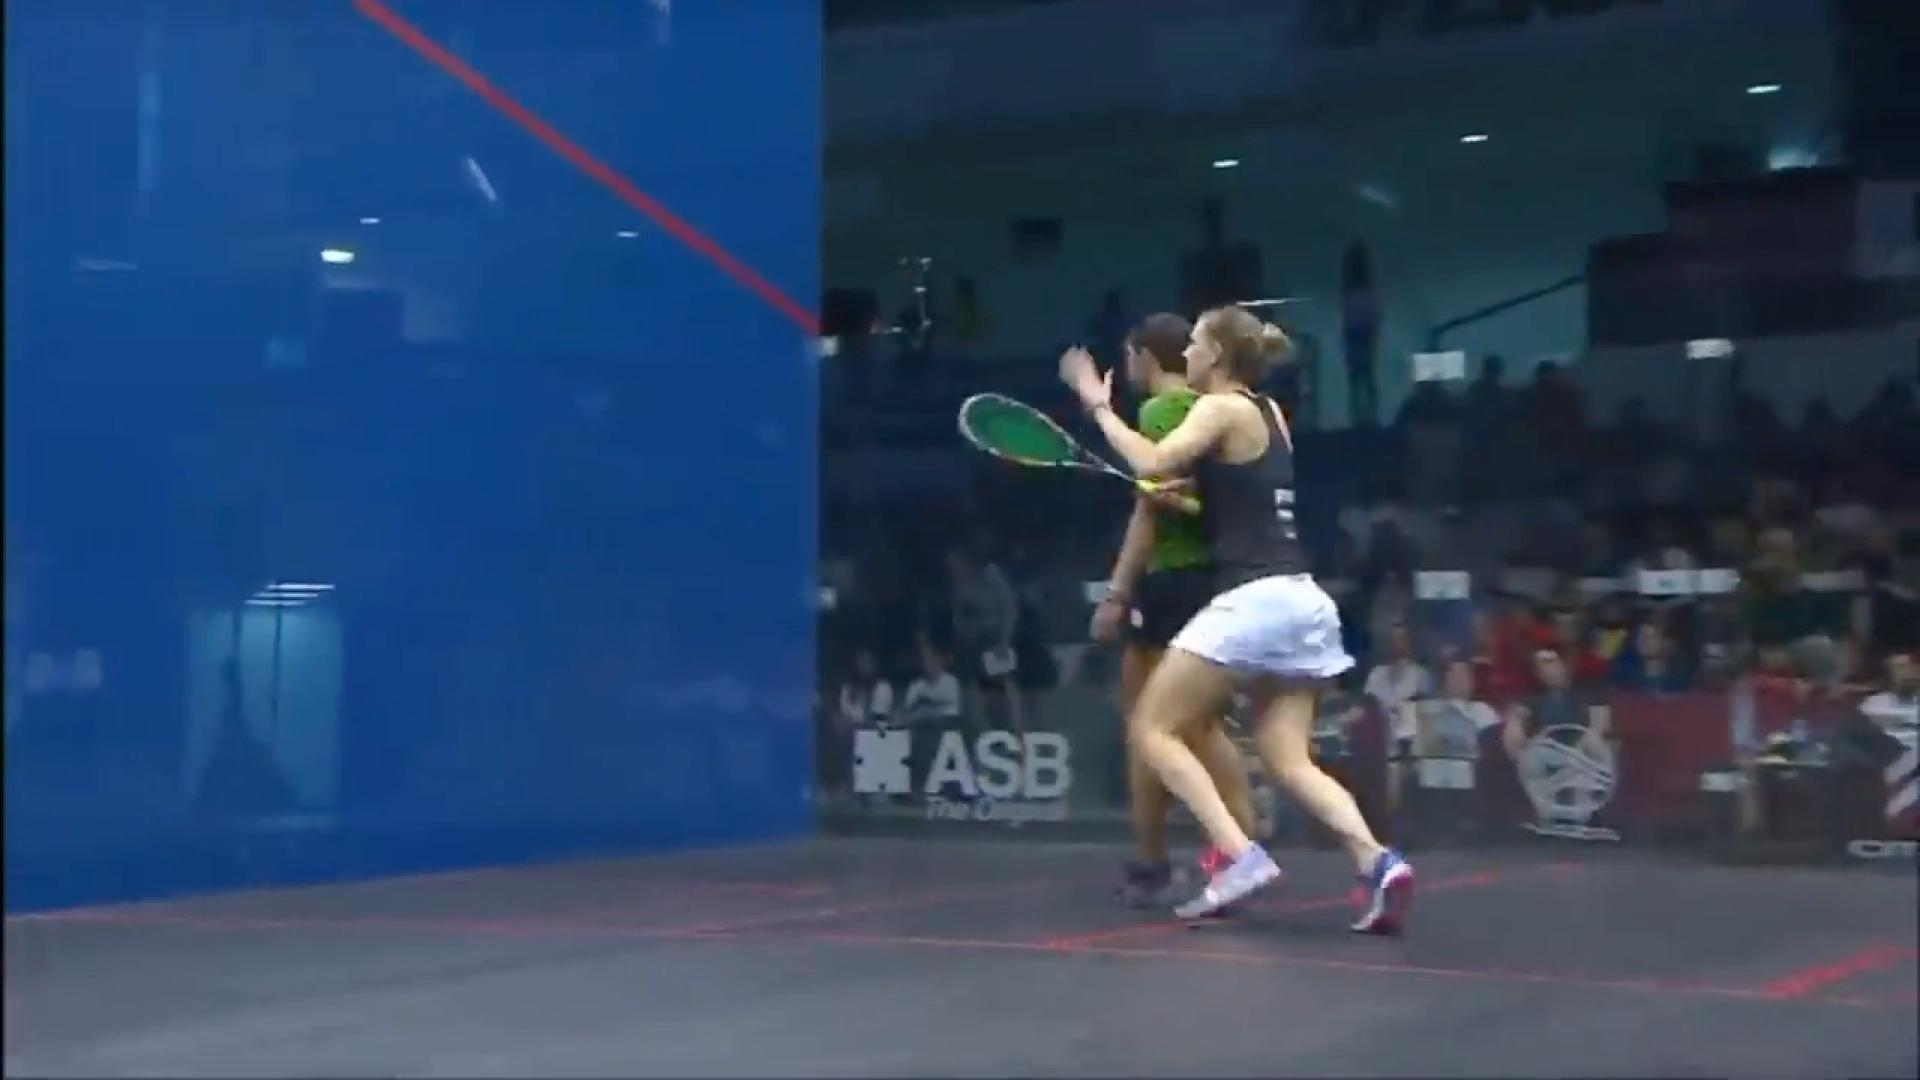Squash-Ball: (452, 154, 521, 228)
